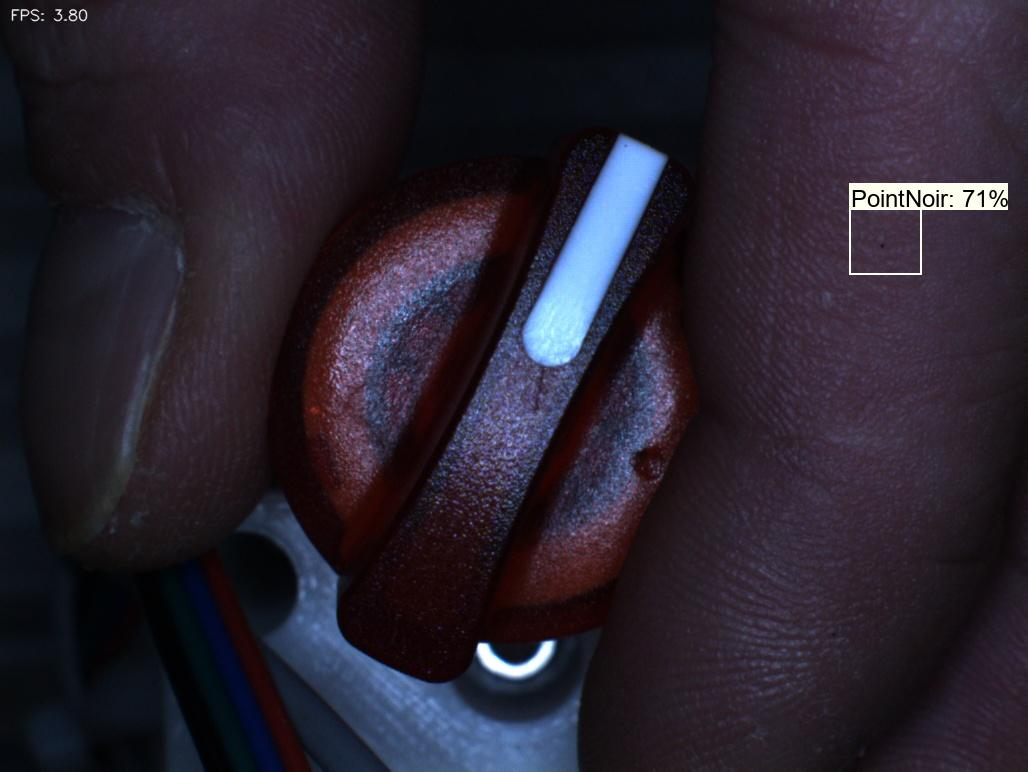Choc: (608, 426, 704, 511)
